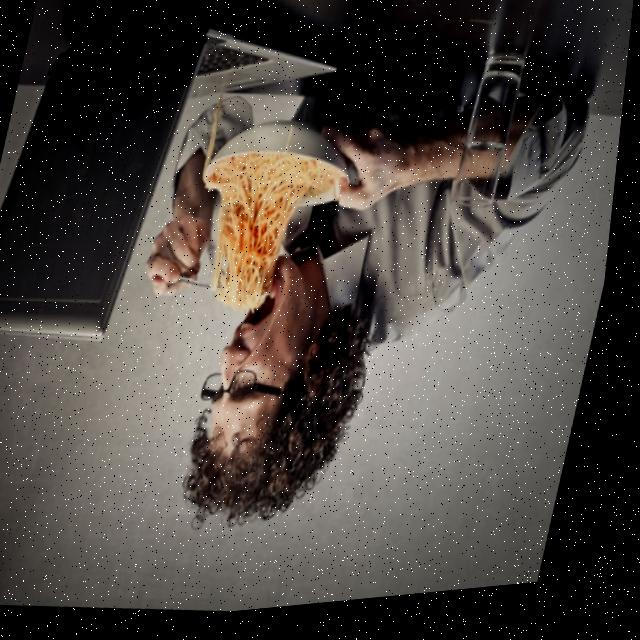eating-person: (85, 0, 625, 592)
